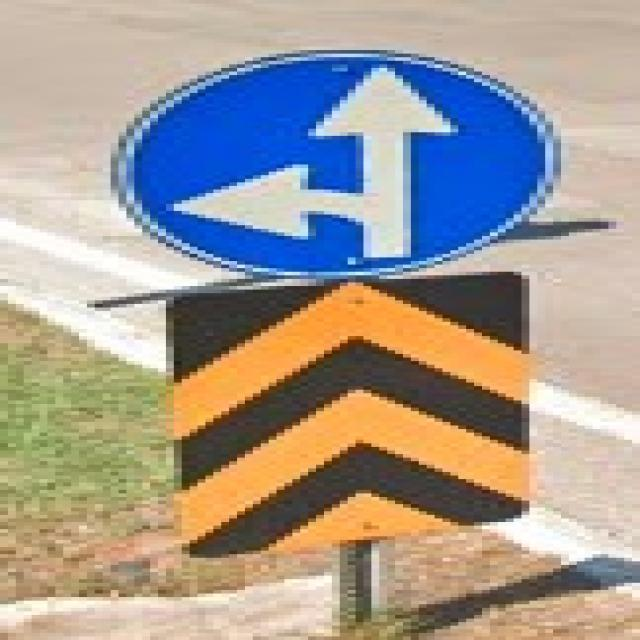Straight or Left: (116, 51, 558, 276)
